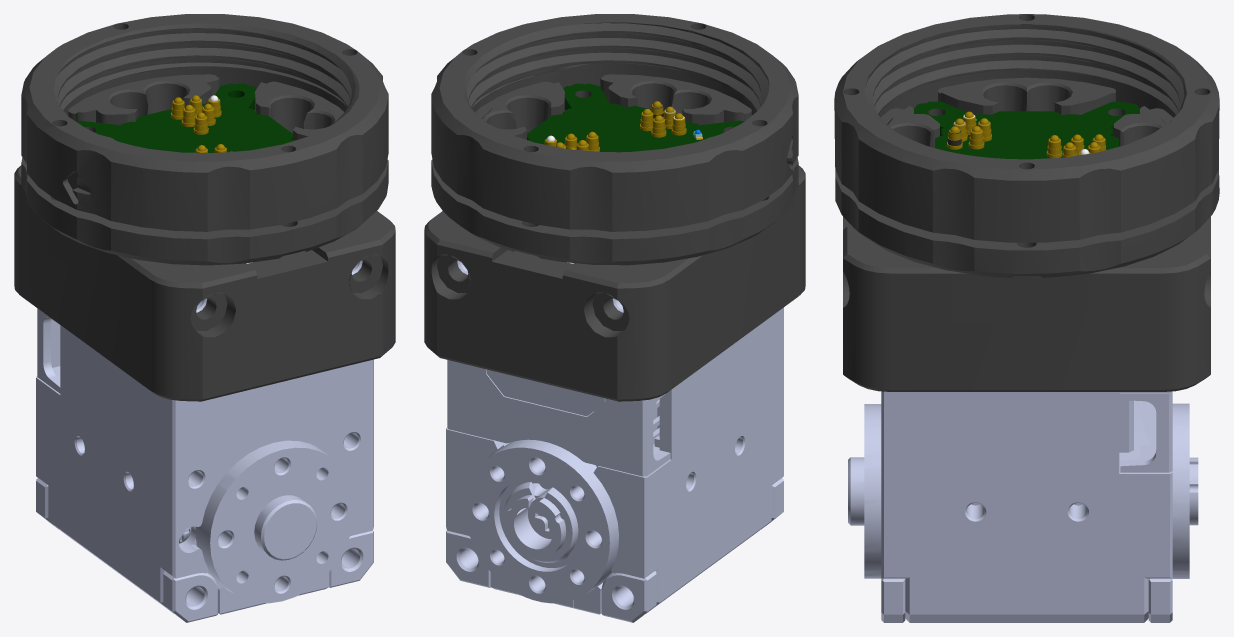
3 renders of one model, left to right at view 1: azimuth 30°, elevation 25°; view 2: azimuth 150°, elevation 25°; view 3: azimuth 270°, elevation 25°, orthographic. The views are drawn at different scales.
Visible parts, largest first — view 1: node3, node30, node29, node31, node16, node9, node2, node14, node22; view 2: node30, node29, node3, node5, node31, node2, node16, node4, node12, node22, node8; view 3: node3, node29, node30, node31, node16, node5, node2, node22, node8, node14, node4.
Boxes of the visible parts, left/top/right/bottom form: node3: left=36, top=262, right=373, bottom=614; node30: left=14, top=74, right=395, bottom=401; node29: left=21, top=14, right=388, bottom=231; node31: left=21, top=157, right=388, bottom=265; node16: left=76, top=83, right=294, bottom=152; node9: left=163, top=571, right=218, bottom=622; node2: left=37, top=308, right=60, bottom=393; node14: left=329, top=530, right=373, bottom=587; node22: left=171, top=95, right=232, bottom=152; node30: left=424, top=74, right=805, bottom=401; node29: left=431, top=14, right=798, bottom=231; node3: left=446, top=262, right=783, bottom=614; node5: left=465, top=439, right=618, bottom=603; node31: left=431, top=157, right=798, bottom=265; node2: left=447, top=360, right=670, bottom=476; node16: left=527, top=83, right=744, bottom=152; node4: left=504, top=482, right=578, bottom=562; node12: left=601, top=571, right=656, bottom=622; node22: left=544, top=101, right=686, bottom=151; node8: left=446, top=530, right=490, bottom=587; node3: left=848, top=391, right=1172, bottom=622; node29: left=834, top=14, right=1219, bottom=242; node30: left=843, top=77, right=1210, bottom=391; node31: left=835, top=167, right=1219, bottom=277; node16: left=913, top=101, right=1140, bottom=159; node5: left=1172, top=403, right=1189, bottom=578; node2: left=1120, top=392, right=1172, bottom=472; node22: left=947, top=111, right=1105, bottom=158; node8: left=1148, top=578, right=1172, bottom=622; node14: left=881, top=578, right=905, bottom=622; node4: left=1189, top=457, right=1198, bottom=525.
Bounding box in the file's own units: 0.0449 × 0.0627 × 0.045.
